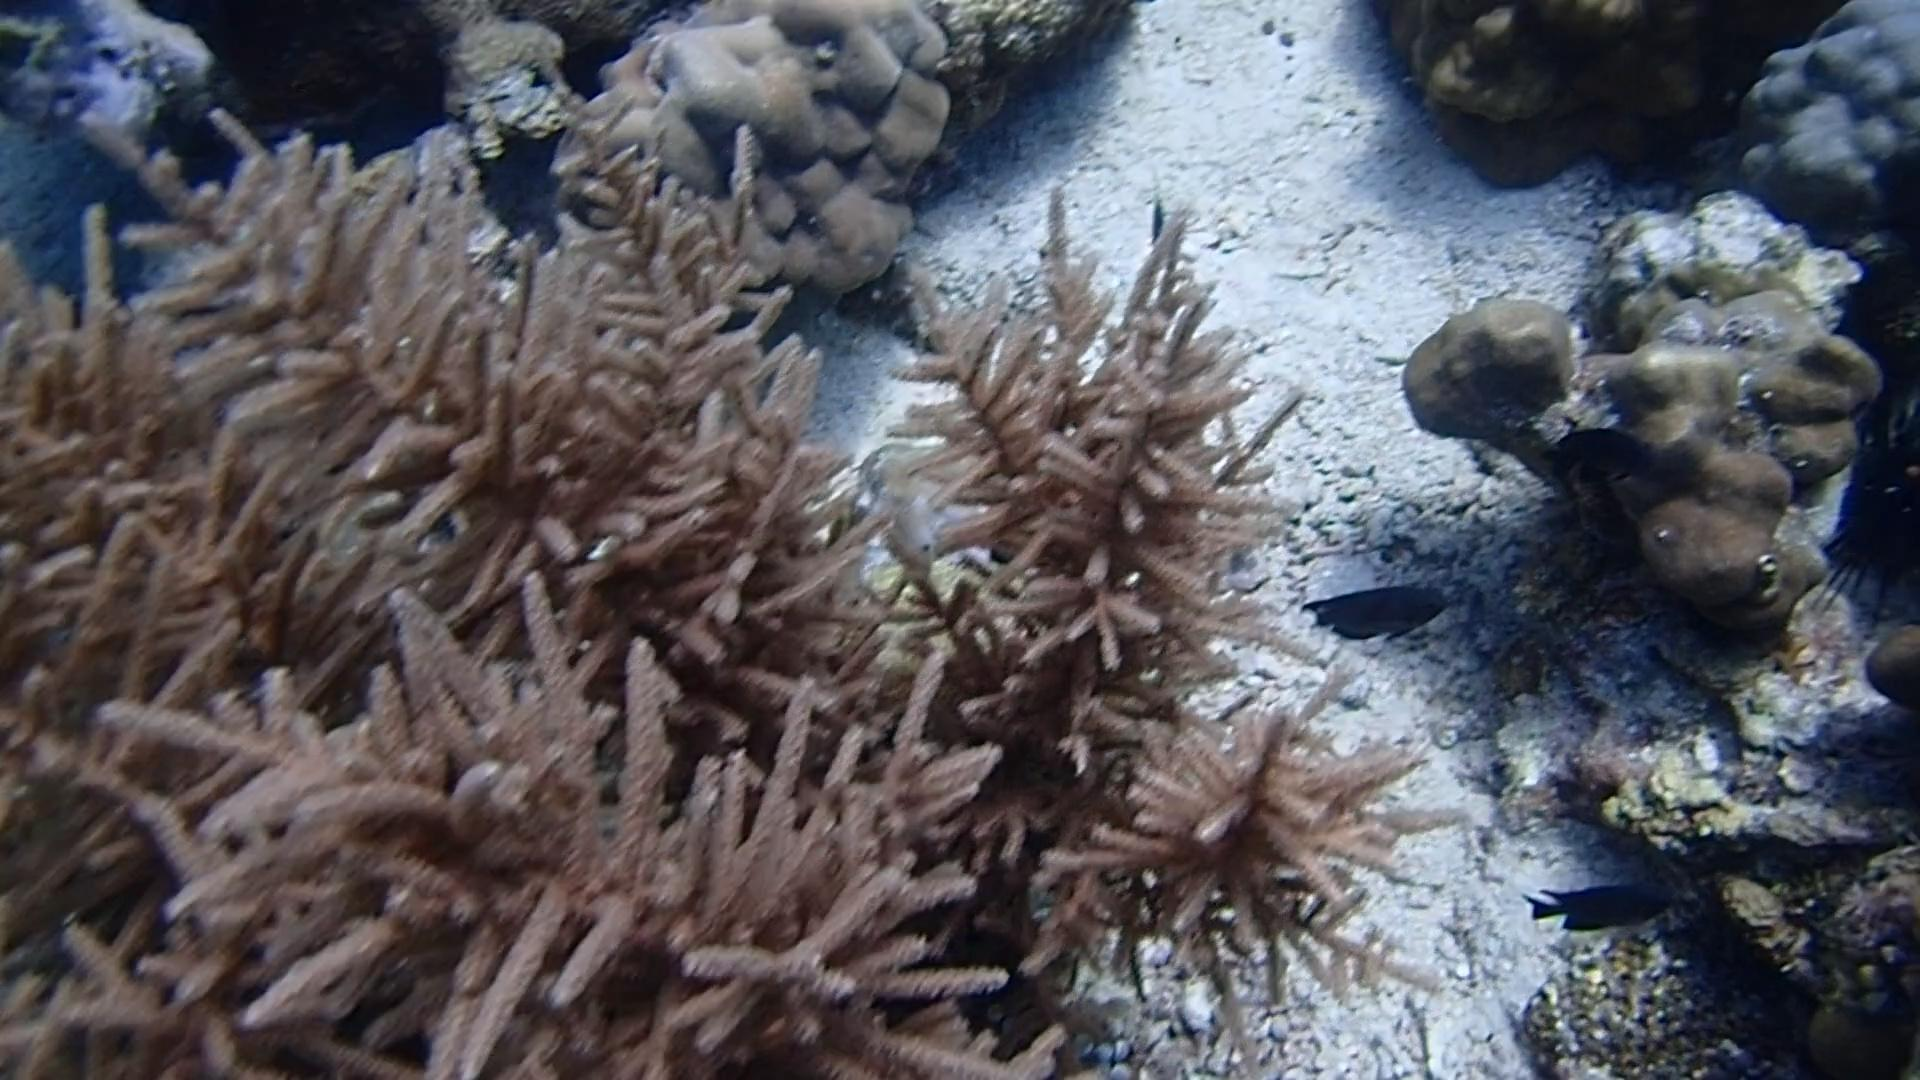Dark Fish: (1291, 571, 1452, 647), (1516, 869, 1675, 936), (1543, 419, 1655, 483)
Yellow Tail: (1133, 179, 1182, 257)
